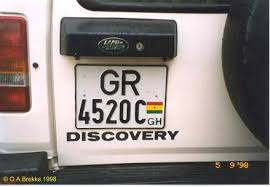number_plates: (76, 66, 166, 129)
